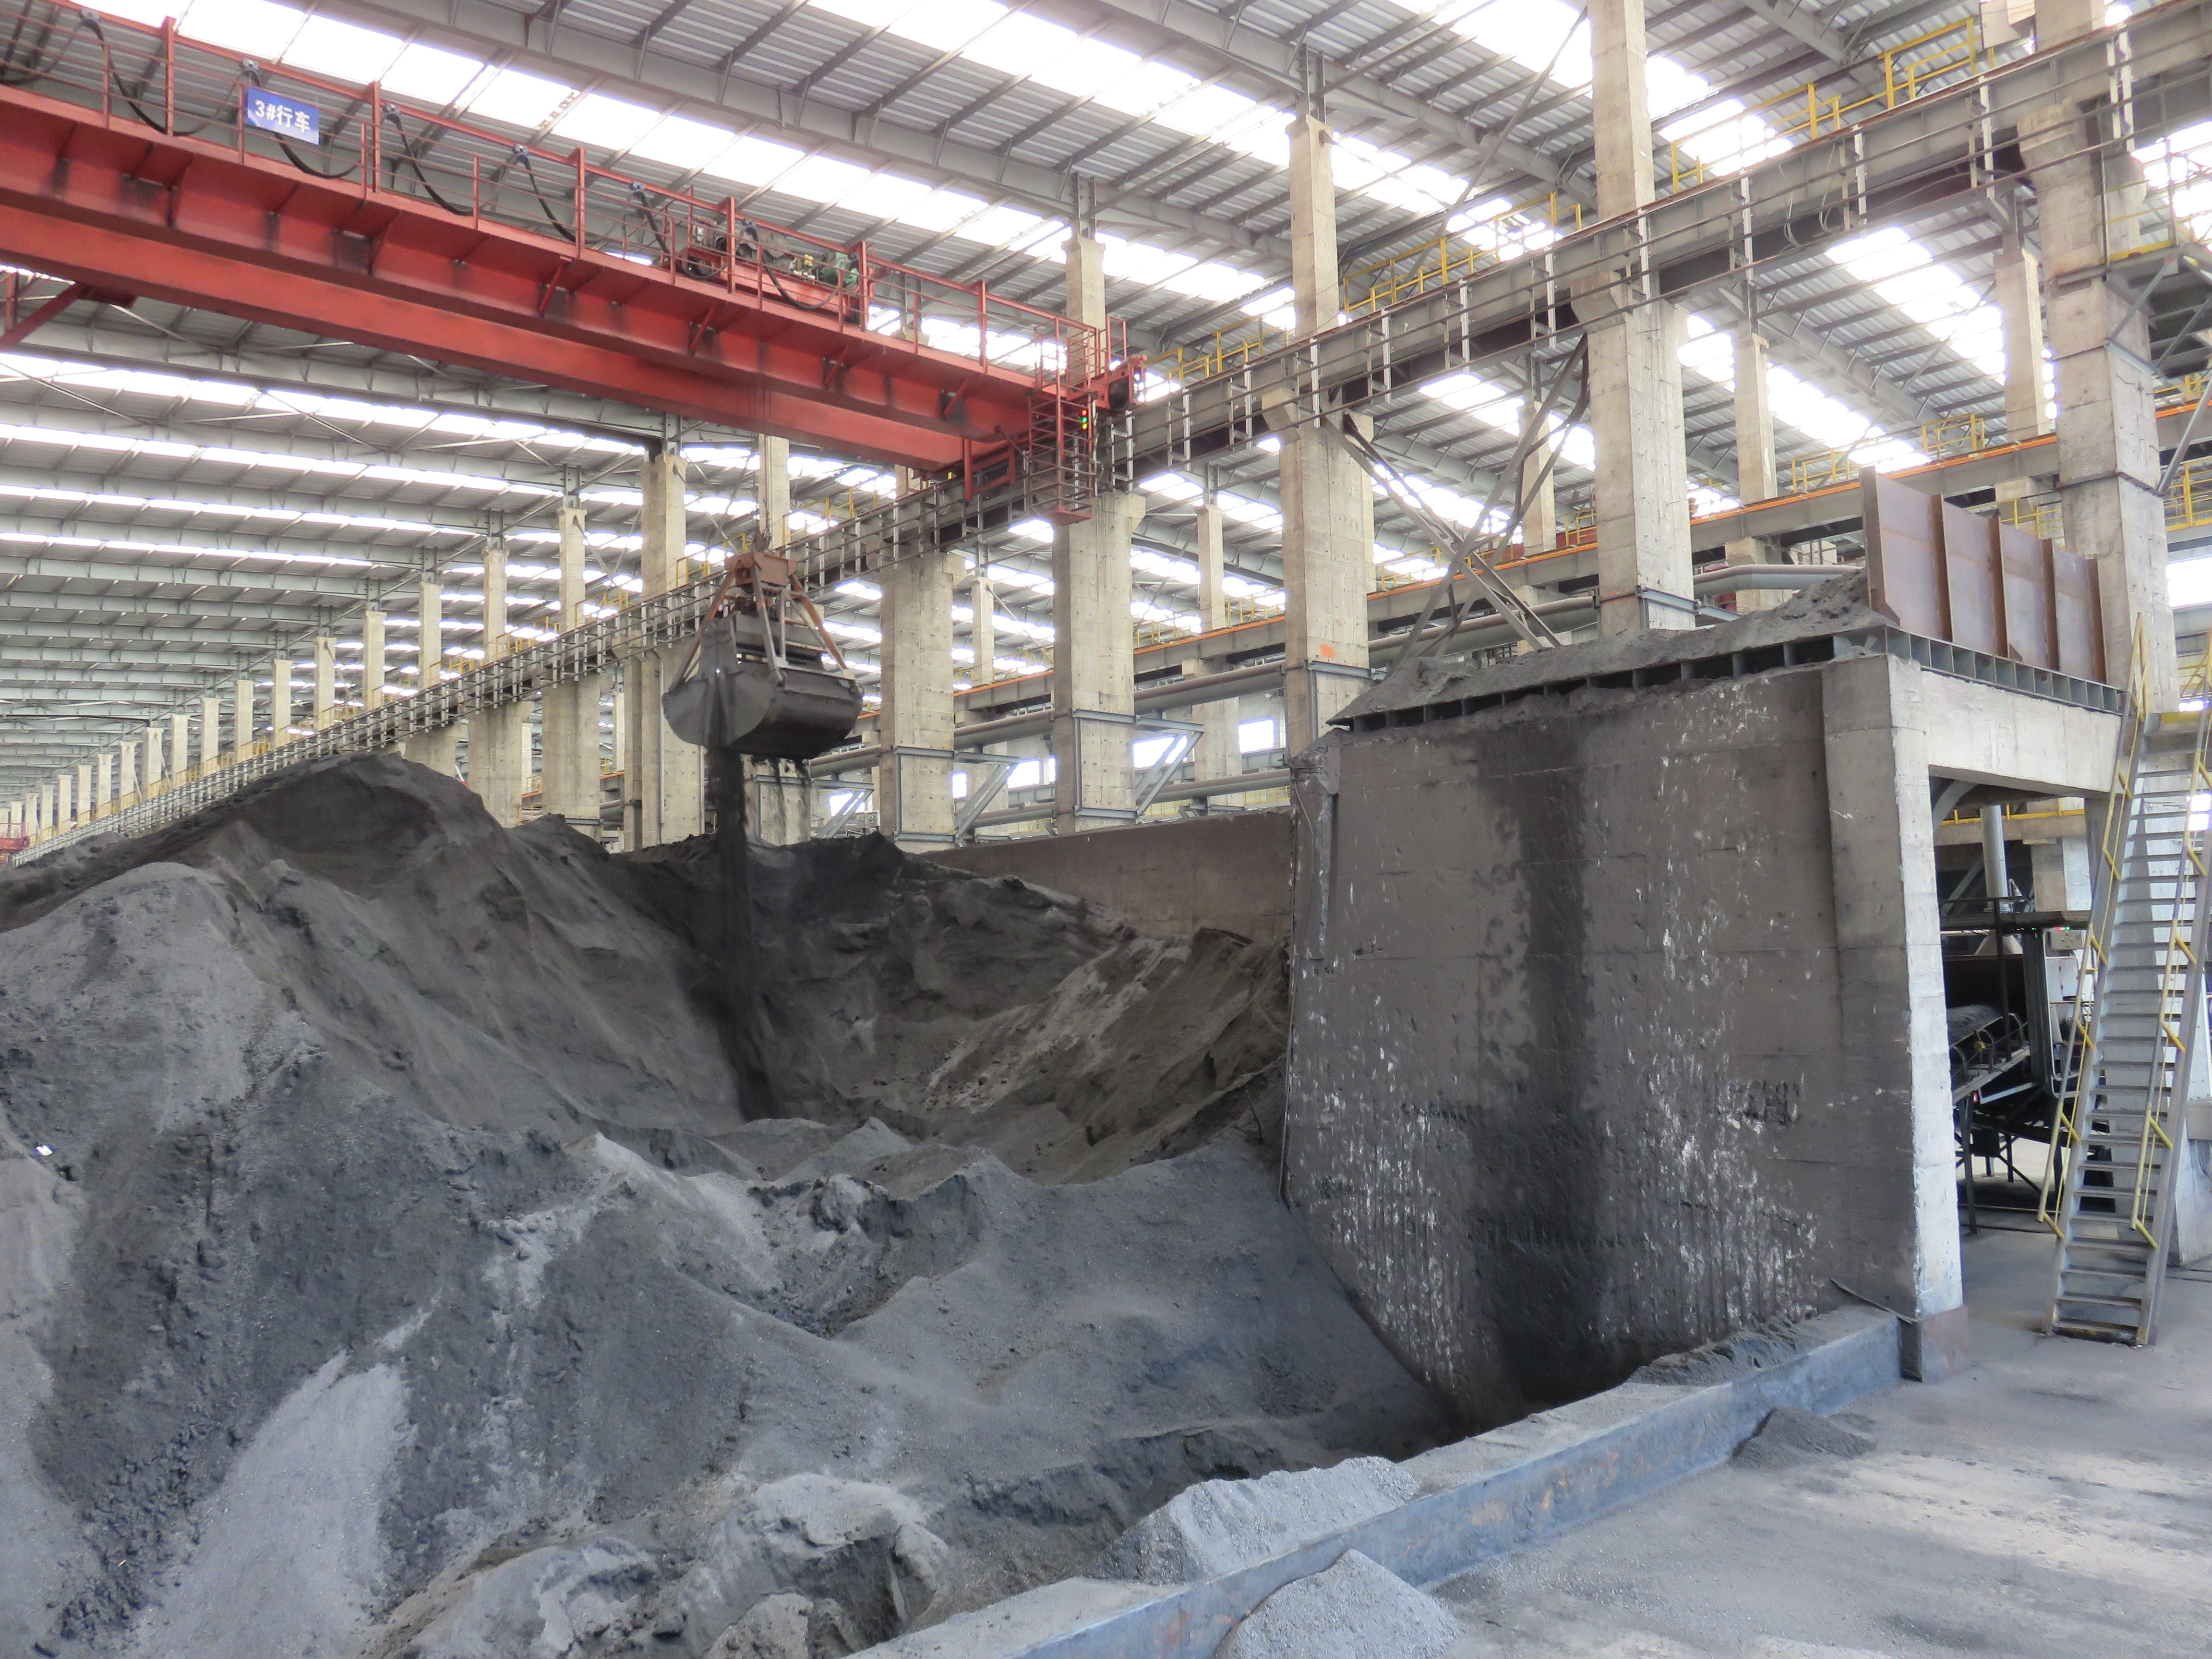grab: (653, 532, 874, 762)
